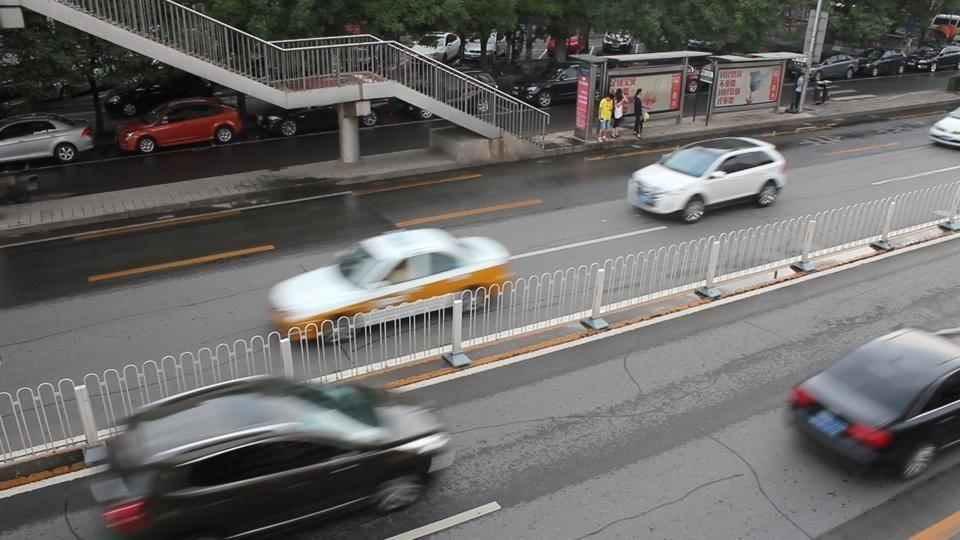car: (84, 376, 454, 537), (266, 227, 517, 340), (787, 326, 959, 480), (627, 137, 788, 224), (114, 97, 245, 155), (0, 115, 95, 167), (247, 104, 376, 140), (103, 78, 210, 117), (508, 64, 588, 108), (410, 32, 464, 64), (806, 54, 866, 81), (855, 51, 907, 78), (929, 106, 959, 149), (597, 31, 640, 54), (928, 45, 960, 73), (901, 51, 936, 73)
